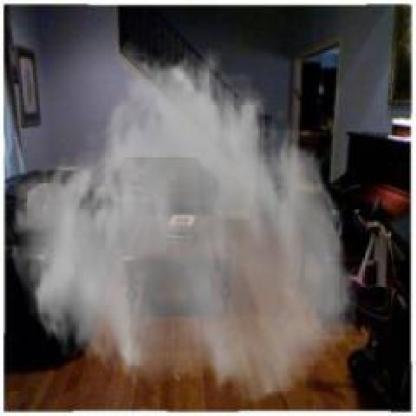Smoke: (7, 39, 360, 405)
